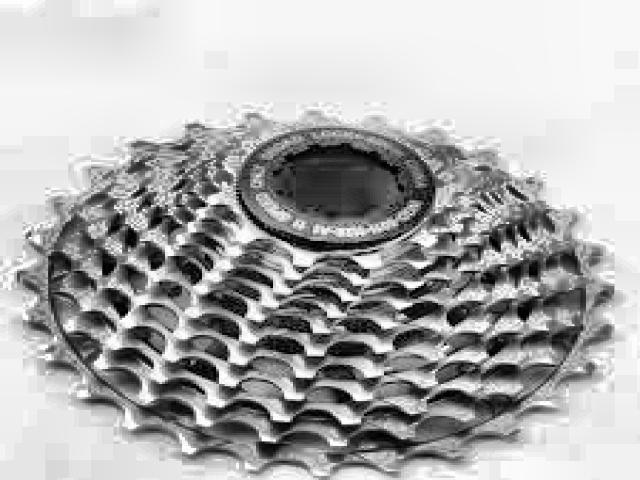cassette: (14, 104, 621, 472)
